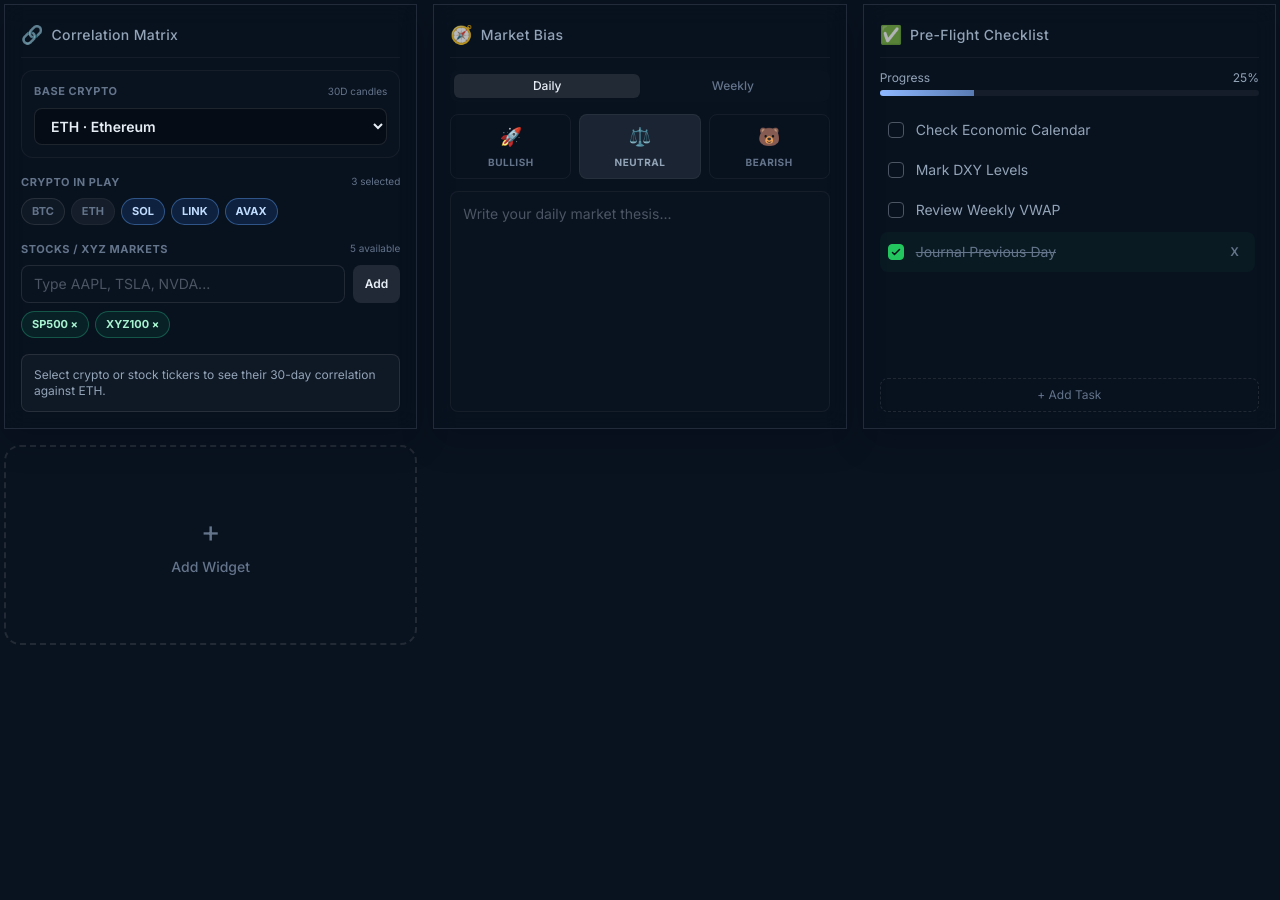
Test: RoutineDashboard › adds and removes custom checklist tasks
Click the button "+ Add Task" at (1069, 394), box [880,378,1259,412]
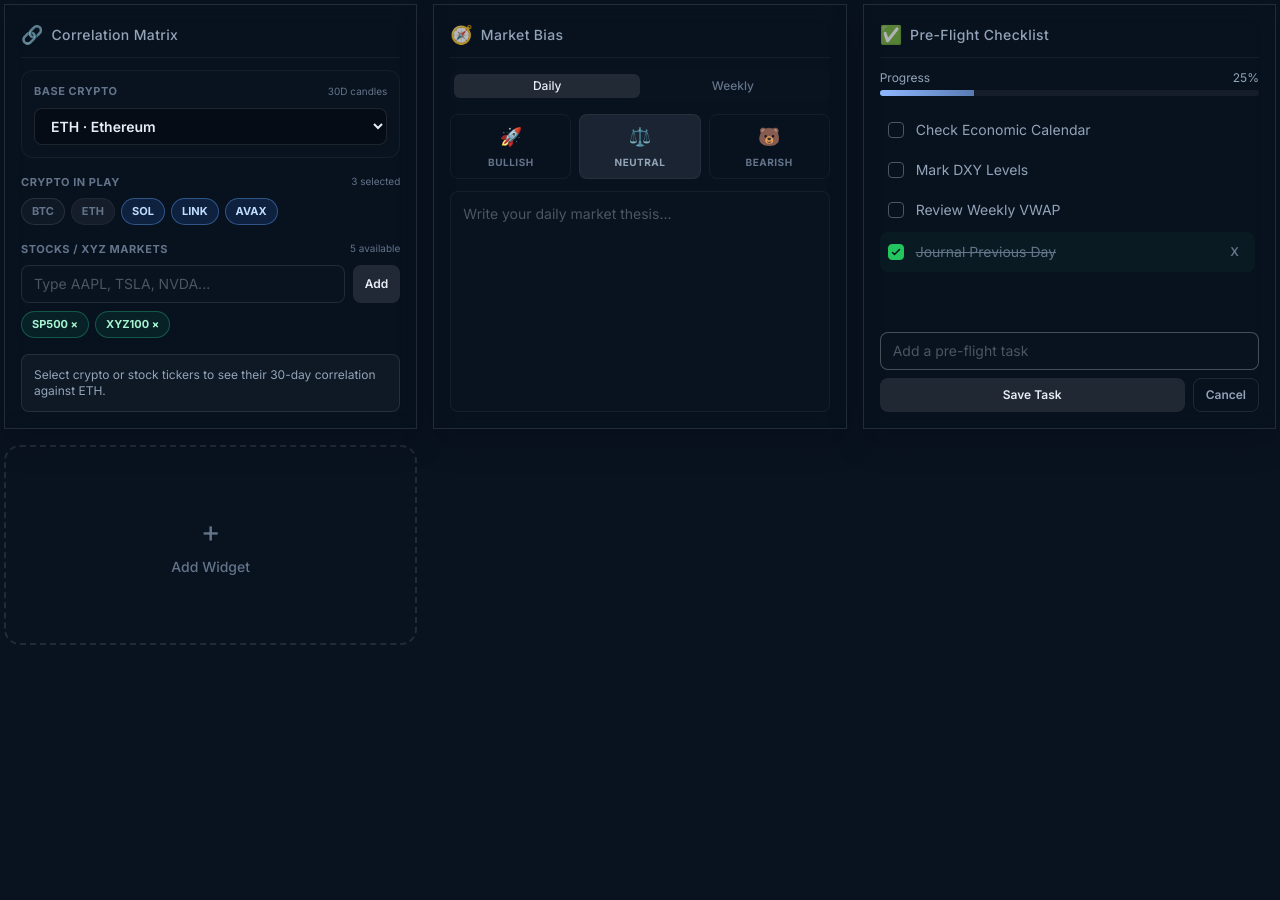
Type "Check liquidity before London open" into the field with placeholder "Add a pre-flight task" at (1069, 350), box [880,332,1259,370]
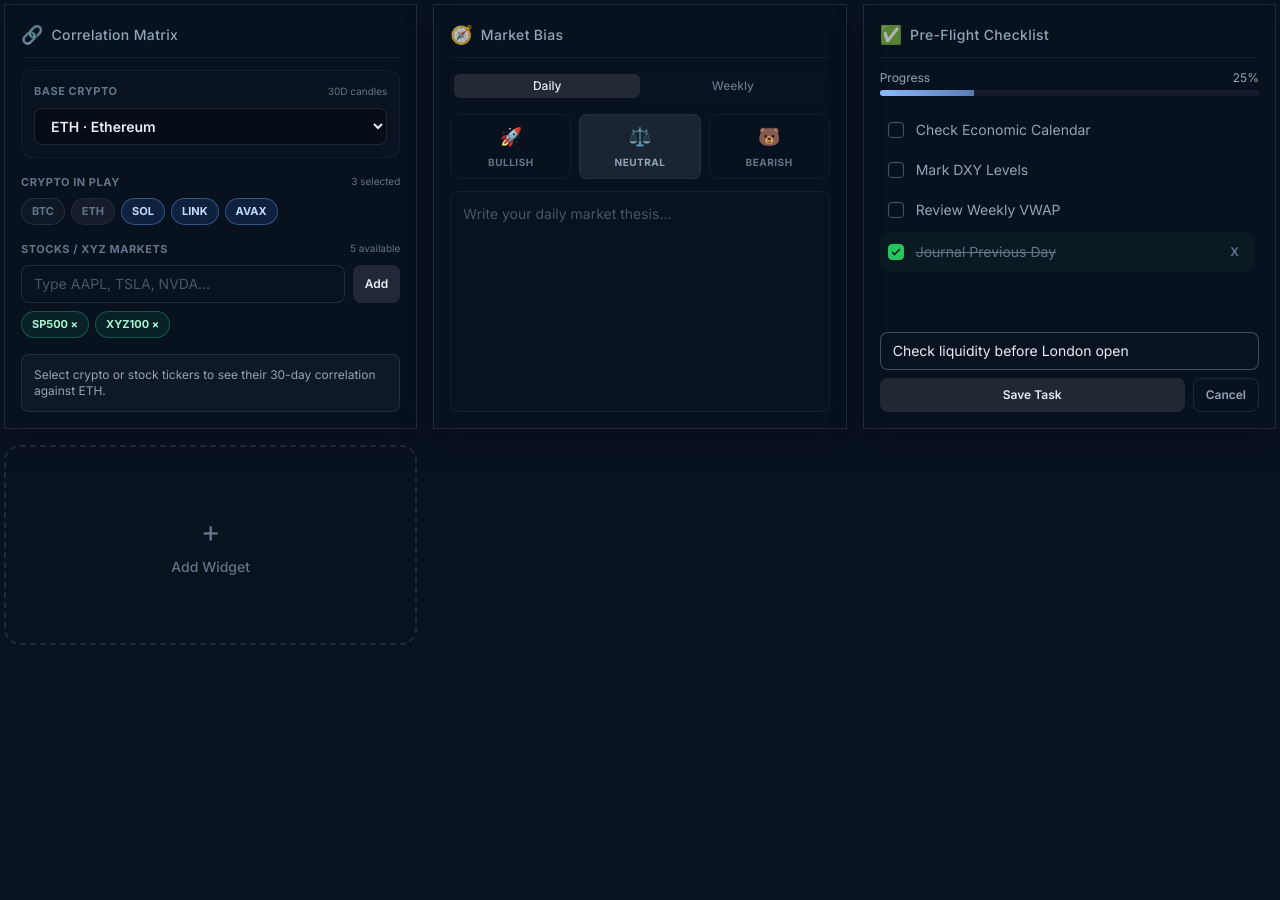
Click the button "Save Task" at (1032, 394), box [880,378,1185,412]
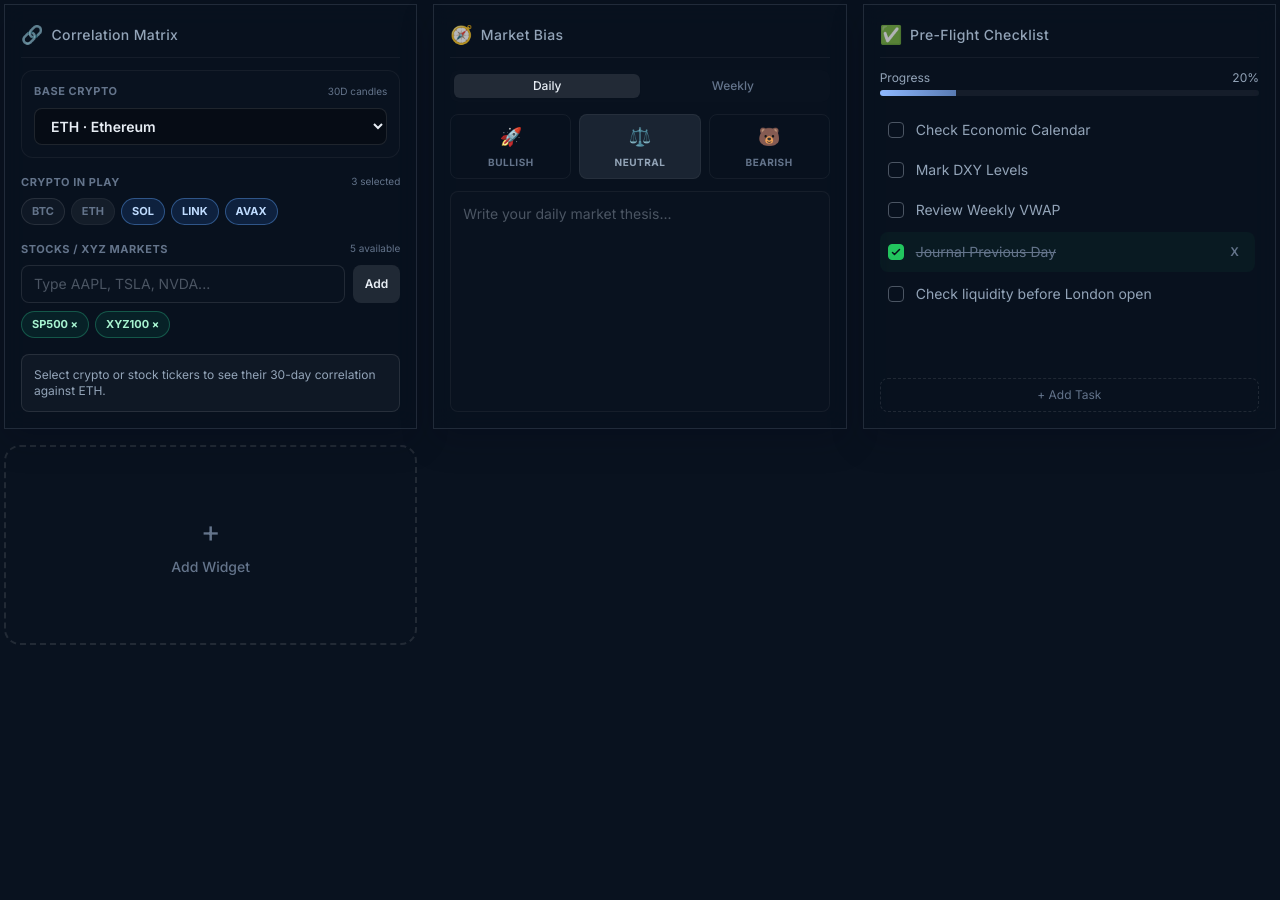
Expected: the button "Check liquidity before London open" is shown
Click the button "Check liquidity before London open" at (1081, 294), box [916,284,1247,304]
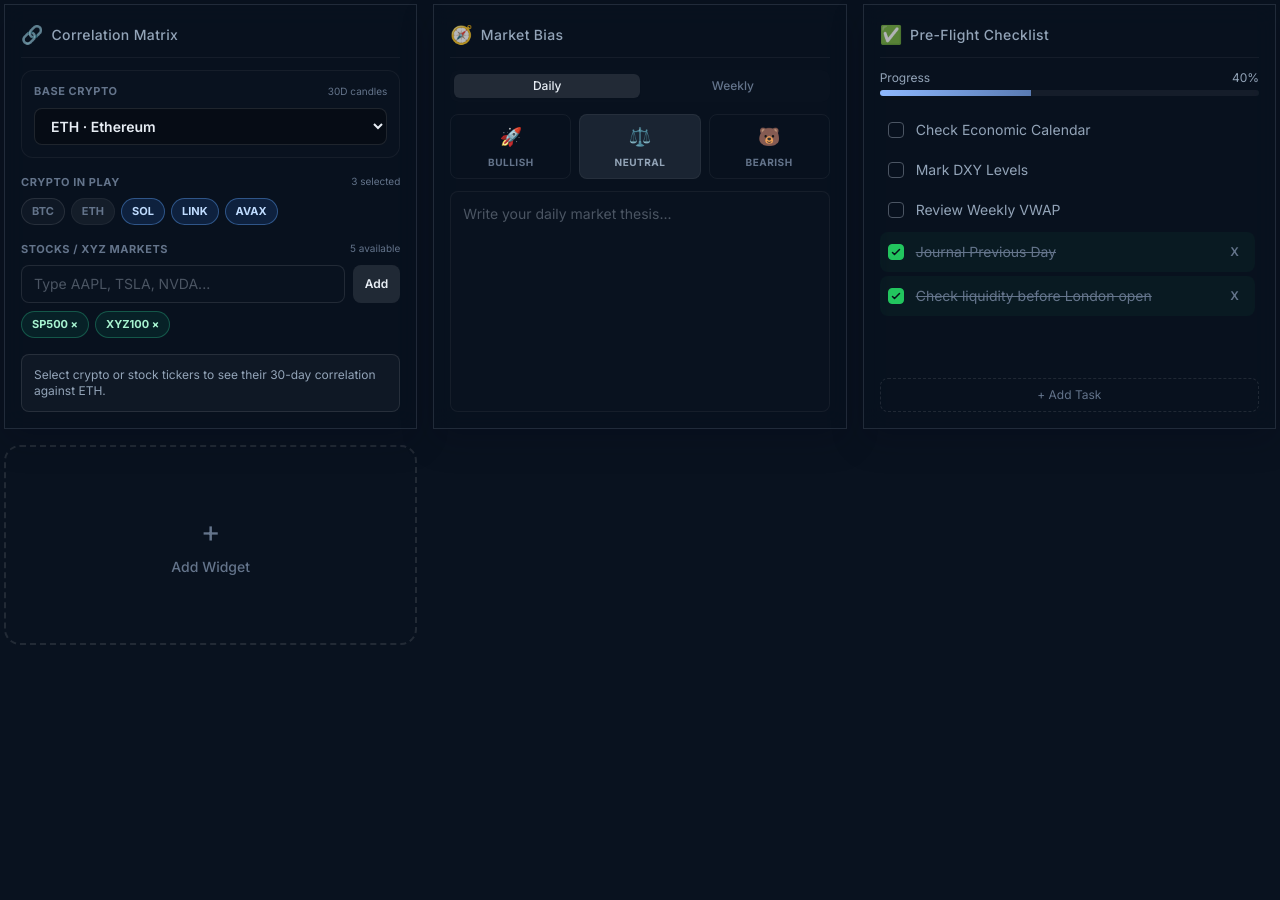
Click the 2nd button "X" at (1235, 296), box [1222,284,1247,308]
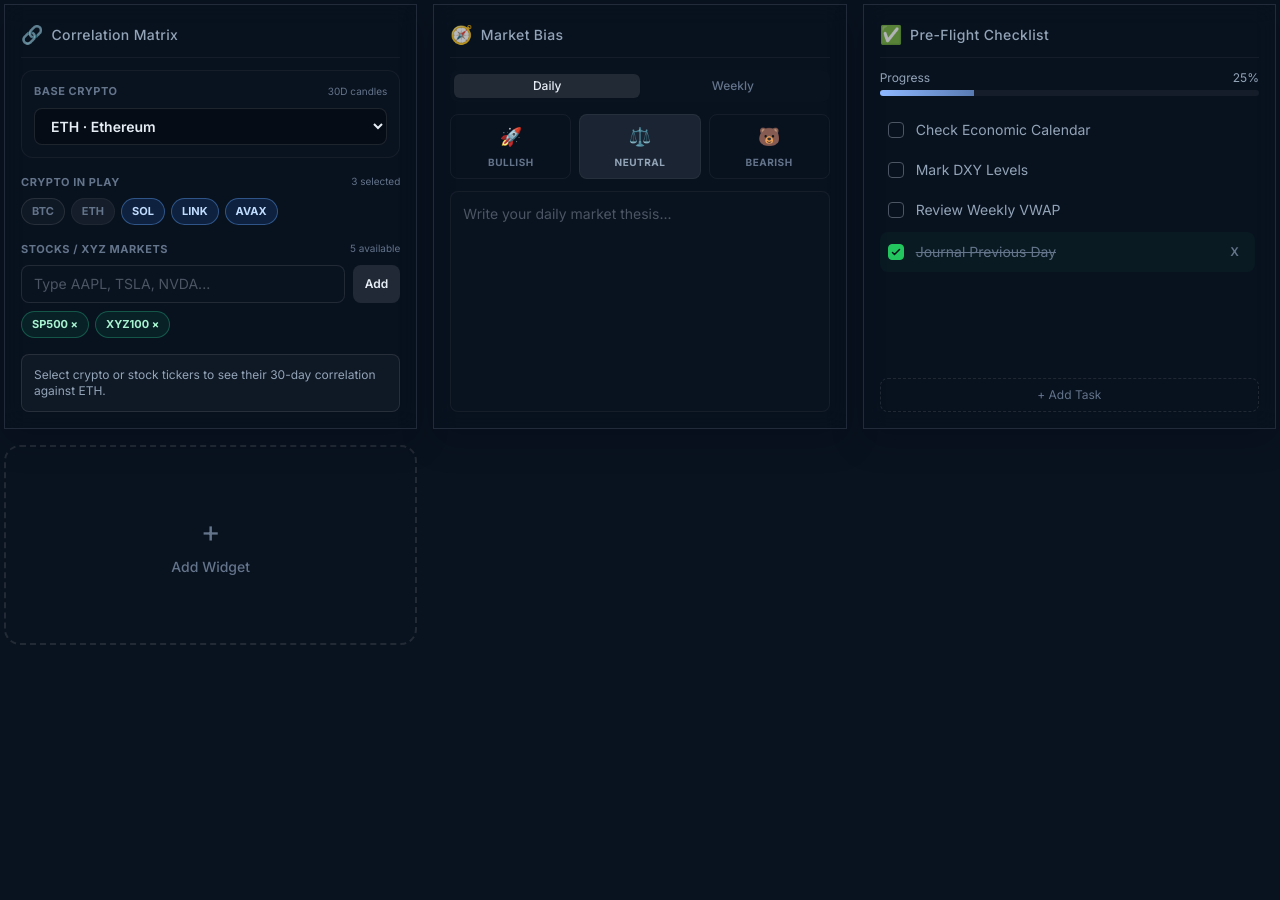
Expected: the button "Check liquidity before London open" is gone
